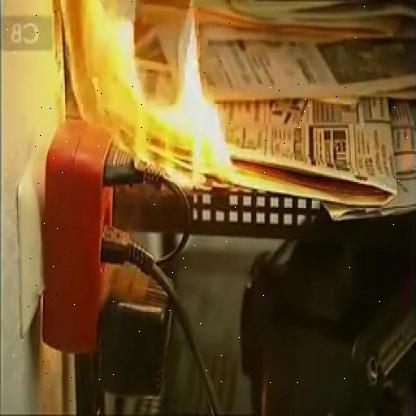fire: (54, 0, 239, 189)
